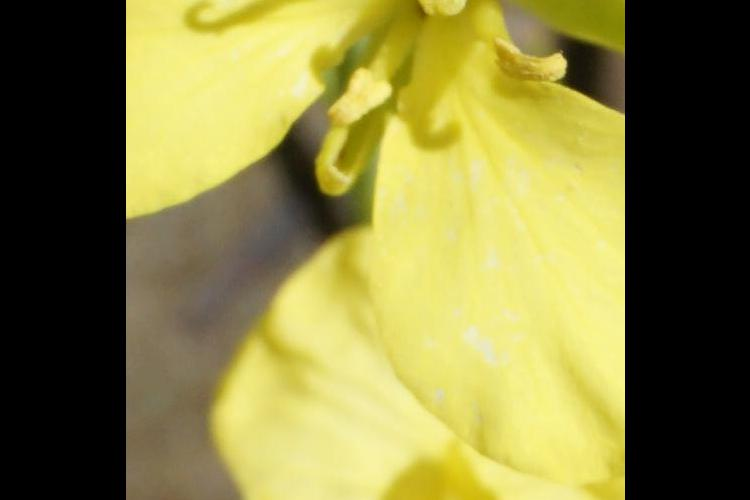yellow: (128, 1, 621, 461), (243, 247, 614, 500)
